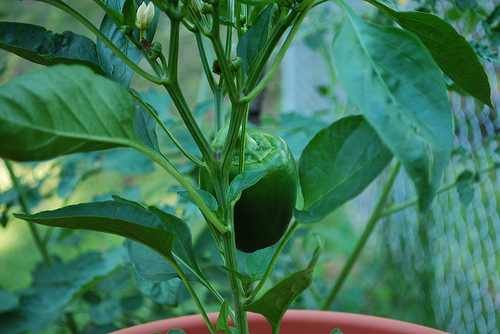capsicum: (198, 118, 298, 254)
